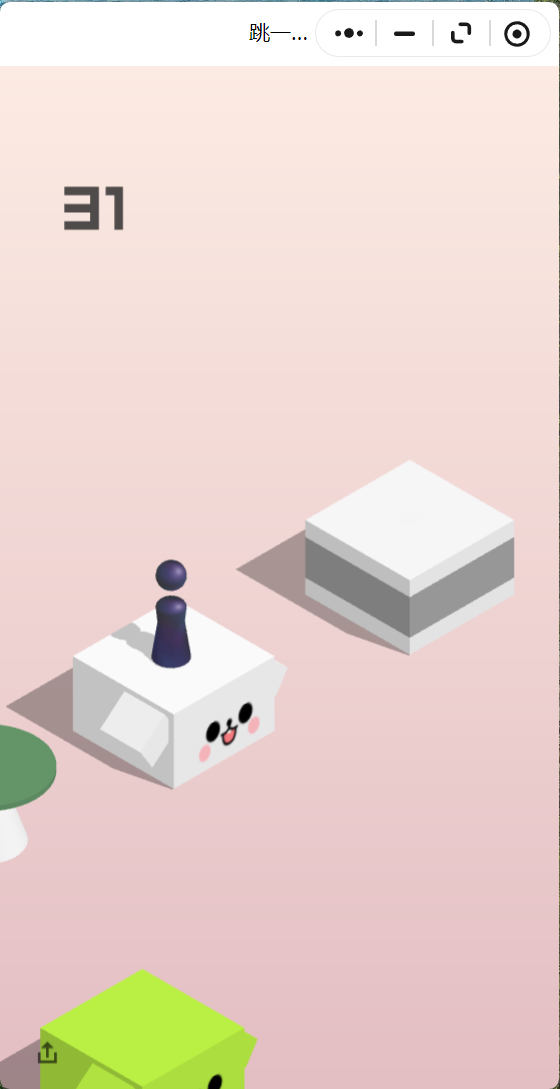piece: (156, 560, 186, 664)
target: (305, 460, 514, 579)
